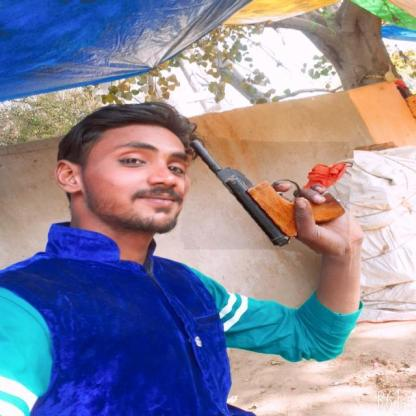handgun: (182, 138, 352, 253)
